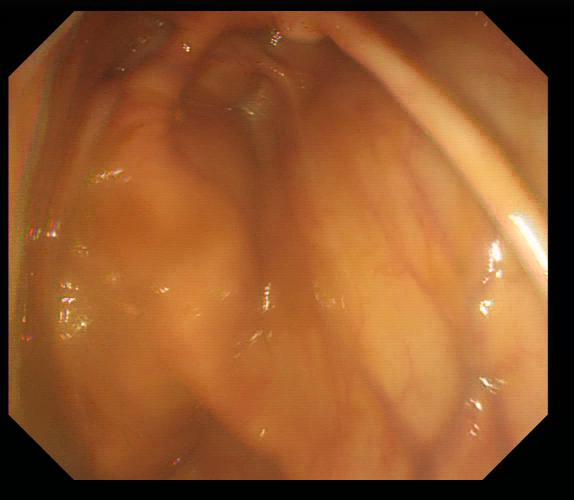polyp: (129, 64, 188, 99), (274, 11, 323, 42)
